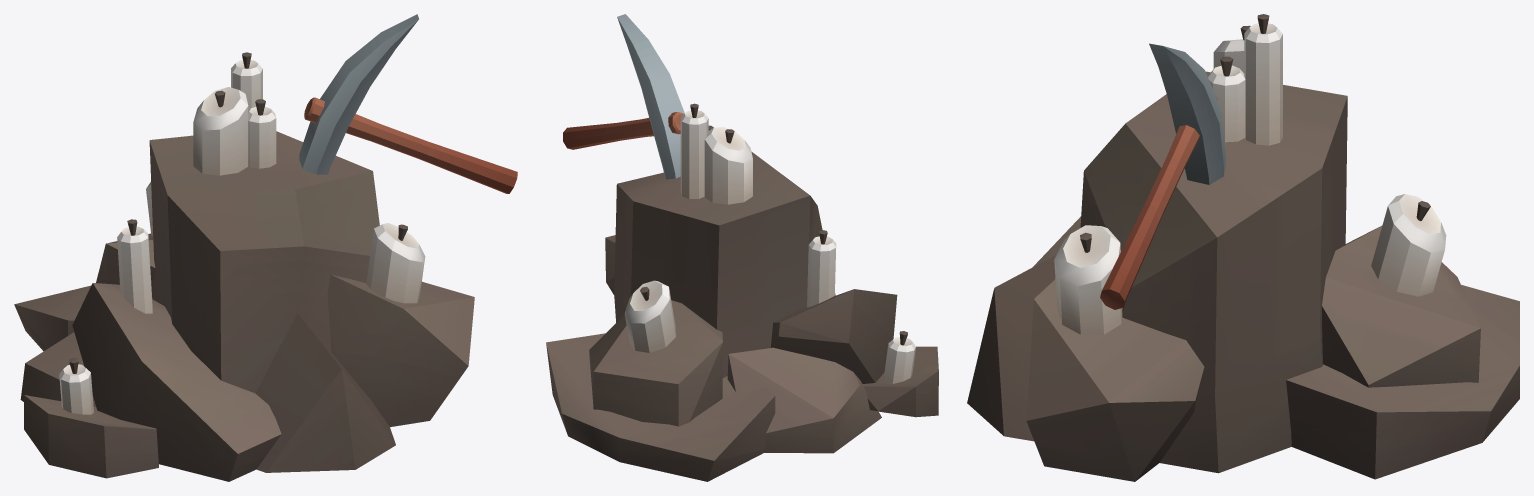
The model's file is rocks_decorated.glb.
3 views of the same model, side by side, from view 1: azimuth 30°, elevation 25°; view 2: azimuth 150°, elevation 25°; view 3: azimuth 270°, elevation 25° (orthographic). The views are drawn at different scales.
Parts seen in each view (by area): view 1: rocks_decorated; view 2: rocks_decorated; view 3: rocks_decorated.
Boxes of the visible parts, x1,y1,x2,y2 form: rocks_decorated: (14,14,517,481); rocks_decorated: (546,14,938,481); rocks_decorated: (967,14,1519,481).
Bounding box in the file's own units: 3.14 × 2.43 × 2.76.
1 material, 1 textured.
